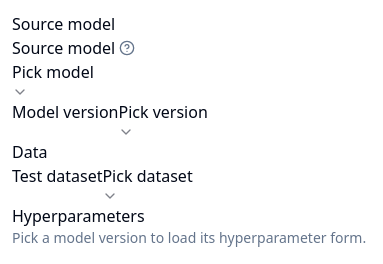
Test case: InferenceSubForm › type="evaluate" renders the Test dataset Select with dataset items (L184)
The width and height of the screenshot is (383, 264).
Click the dropdown named "test dataset".
click(148, 184)  # box [102,164,193,204]
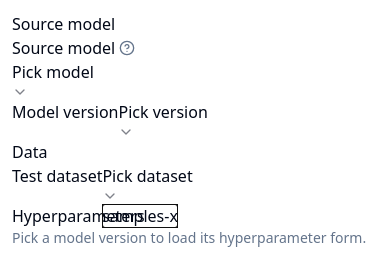
expect the option "samples-x" is shown: met, box [102,204,178,228]
